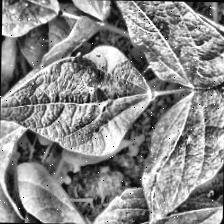Bean Rust: (0, 46, 151, 153), (143, 88, 224, 224), (105, 0, 224, 88), (0, 160, 105, 223), (97, 188, 223, 224), (14, 17, 89, 71), (1, 0, 53, 38), (56, 0, 112, 19)
